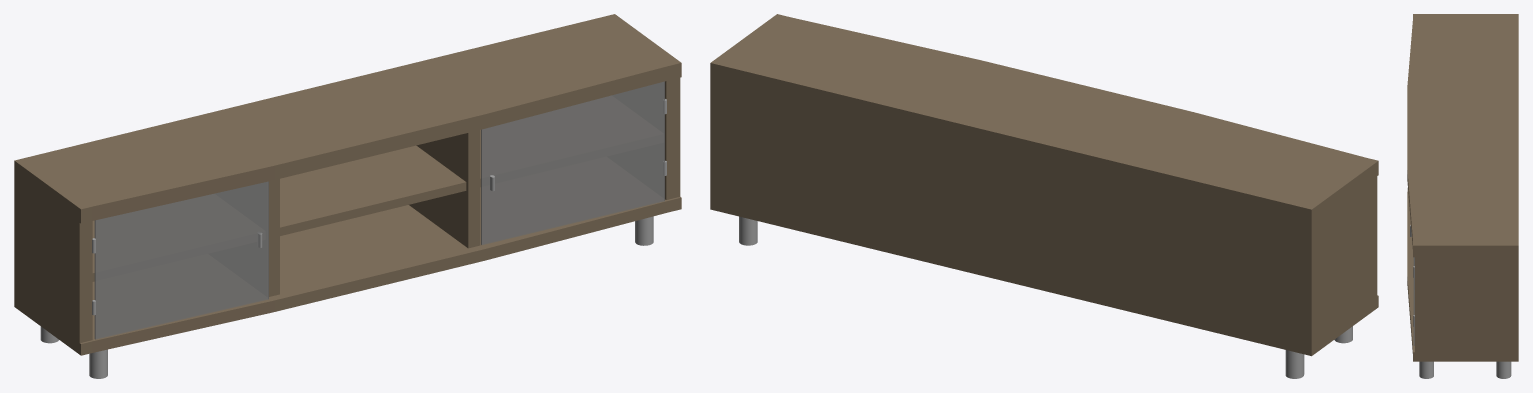
File: slimTvStand.fbx
The picture shows the model from 3 angles, left to right: view 1: azimuth 30°, elevation 25°; view 2: azimuth 150°, elevation 25°; view 3: azimuth 270°, elevation 25°; orthographic projection. The views are drawn at different scales.
Visible parts, largest first — view 1: pCube2, Tv_Stand_Slim_Door_Handle_Right1, Tv_Stand_Slim_Door_Handle_Left1; view 2: pCube2; view 3: pCube2, Tv_Stand_Slim_Door_Handle_Right1.
Boxes of the visible parts, bbox=[...] form: pCube2: bbox=[14, 14, 681, 378]; Tv_Stand_Slim_Door_Handle_Right1: bbox=[481, 81, 664, 245]; Tv_Stand_Slim_Door_Handle_Left1: bbox=[94, 181, 268, 339]; pCube2: bbox=[710, 14, 1378, 378]; pCube2: bbox=[1407, 14, 1518, 378]; Tv_Stand_Slim_Door_Handle_Right1: bbox=[1410, 225, 1414, 345].
Size of the model in its own units: 149 by 42.32 by 30.24.
